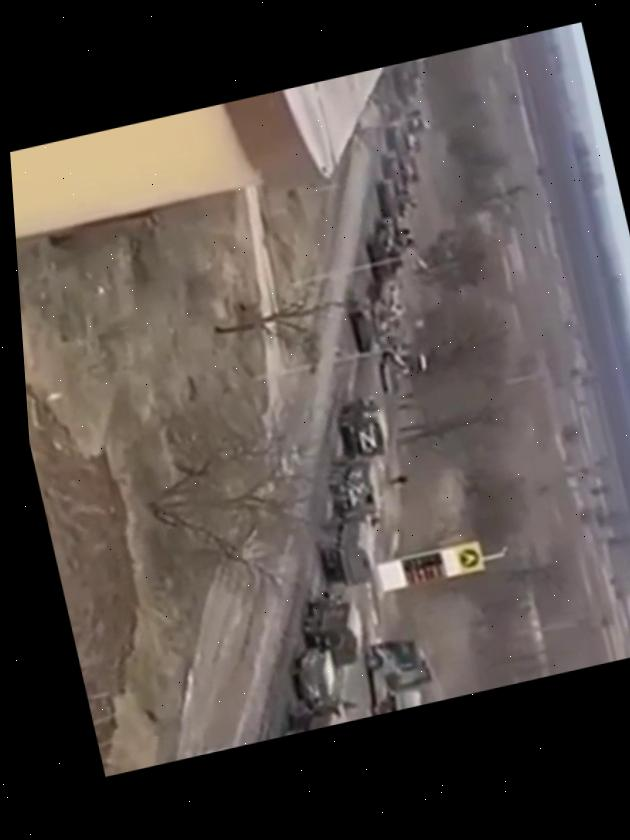car: (286, 643, 340, 702)
tank: (341, 286, 404, 356), (359, 219, 419, 281), (364, 170, 421, 225)
truck: (357, 630, 440, 717), (295, 583, 370, 673), (312, 506, 385, 592), (324, 451, 390, 528), (333, 391, 395, 463), (271, 693, 356, 738)
